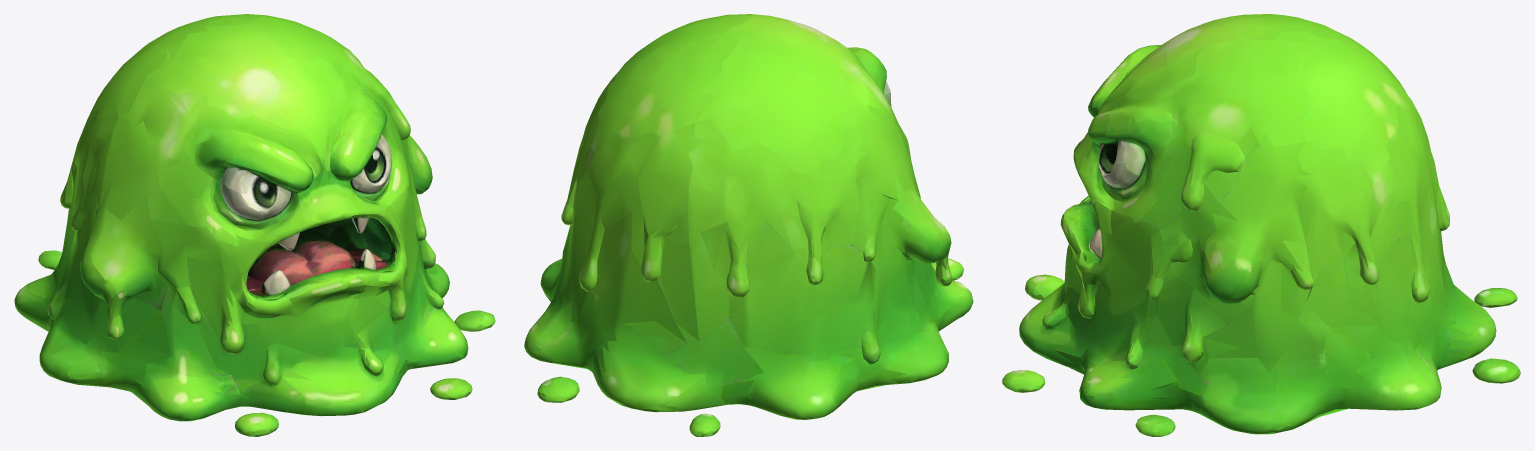
File: boss-slime.glb
3 renders of one model, left to right at view 1: azimuth 30°, elevation 25°; view 2: azimuth 150°, elevation 25°; view 3: azimuth 270°, elevation 25°, orthographic. The views are drawn at different scales.
Size of the model in its own units: 1.73 by 1.24 by 1.9.
Materials: 1 (1 with a texture image).
